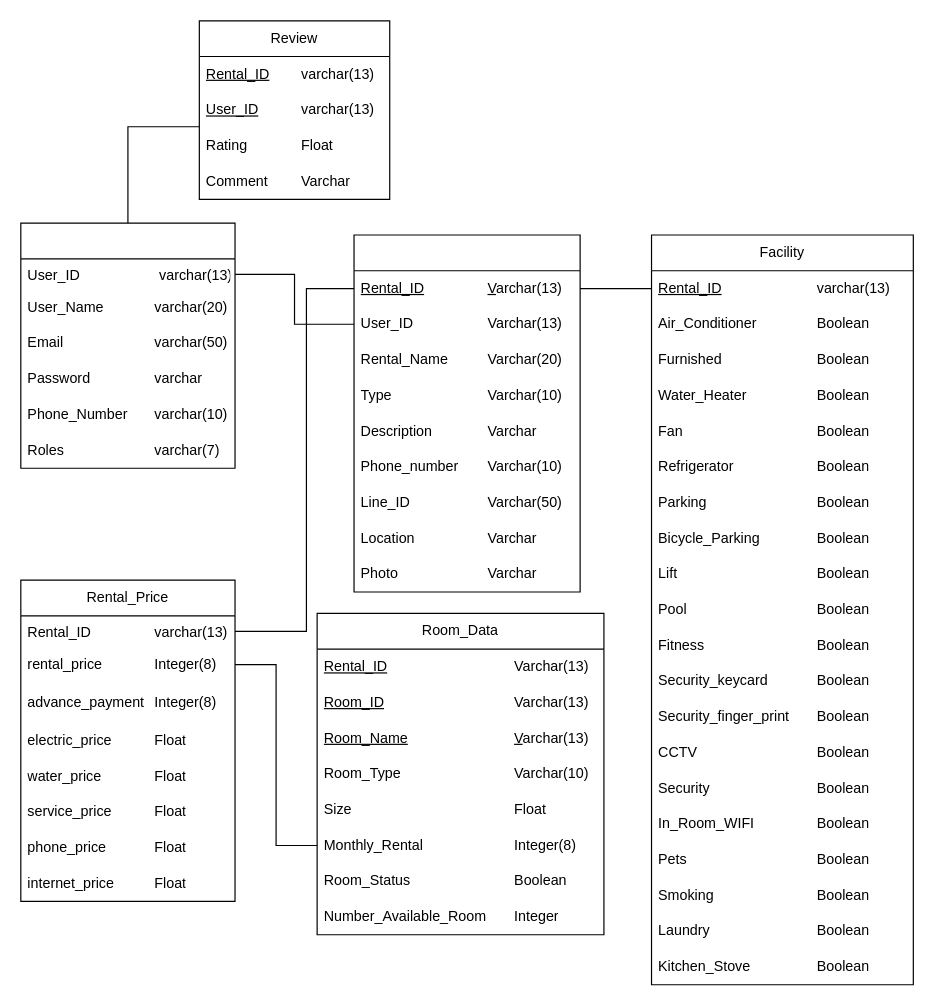
Image size: 934x1006. Some labels were removed from this diagram. The box of each missing label's shape, as (x1, y1, x2, y2) in pixels:
Account: (20, 222, 235, 468)
Rental_Data: (353, 234, 580, 592)
